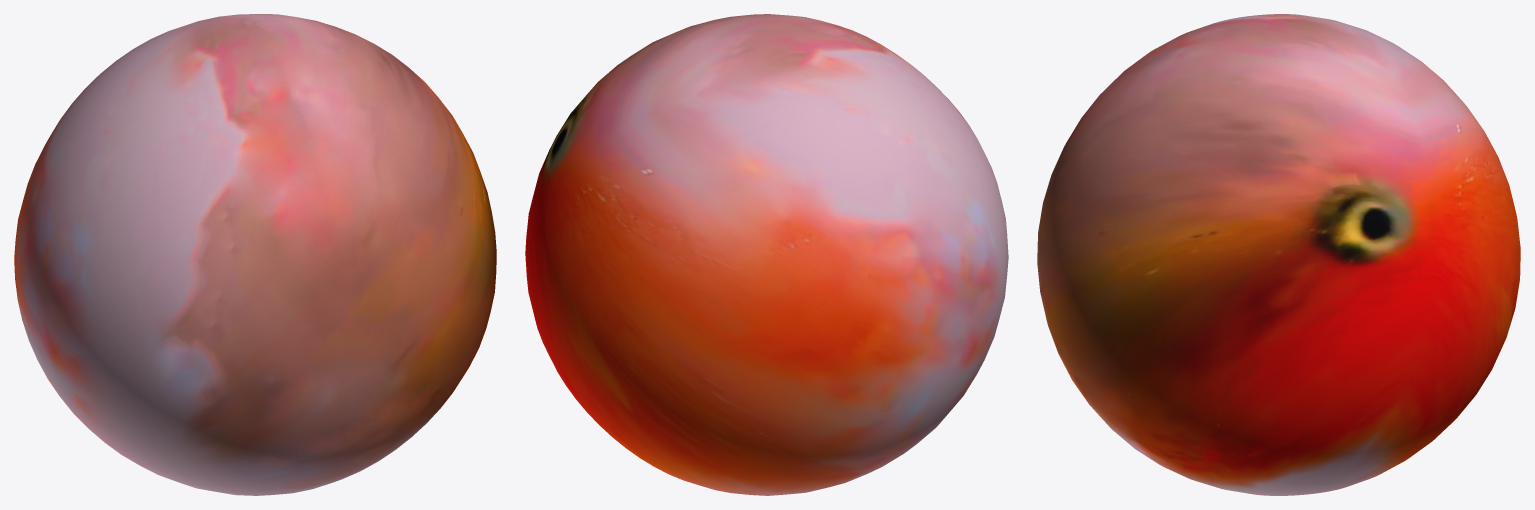
Rendered from Salmon-Egg-11.gltf.
3 renders of one model, left to right at view 1: azimuth 30°, elevation 25°; view 2: azimuth 150°, elevation 25°; view 3: azimuth 270°, elevation 25°, orthographic.
Visible parts, largest first — view 1: Sphere; view 2: Sphere; view 3: Sphere.
Boxes of the visible parts, <box> form: Sphere: <box>14,14,496,495</box>; Sphere: <box>525,14,1008,495</box>; Sphere: <box>1037,14,1520,495</box>.
Size of what is drawn, in the model's own units: 136 by 136 by 136.
Materials: 2 (2 with a texture image).
